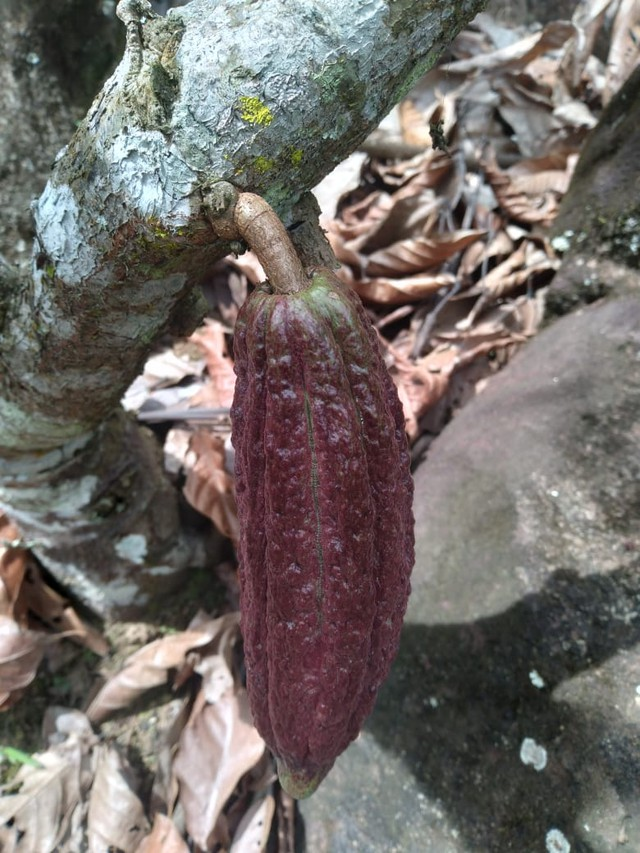Health: (215, 255, 423, 810)
